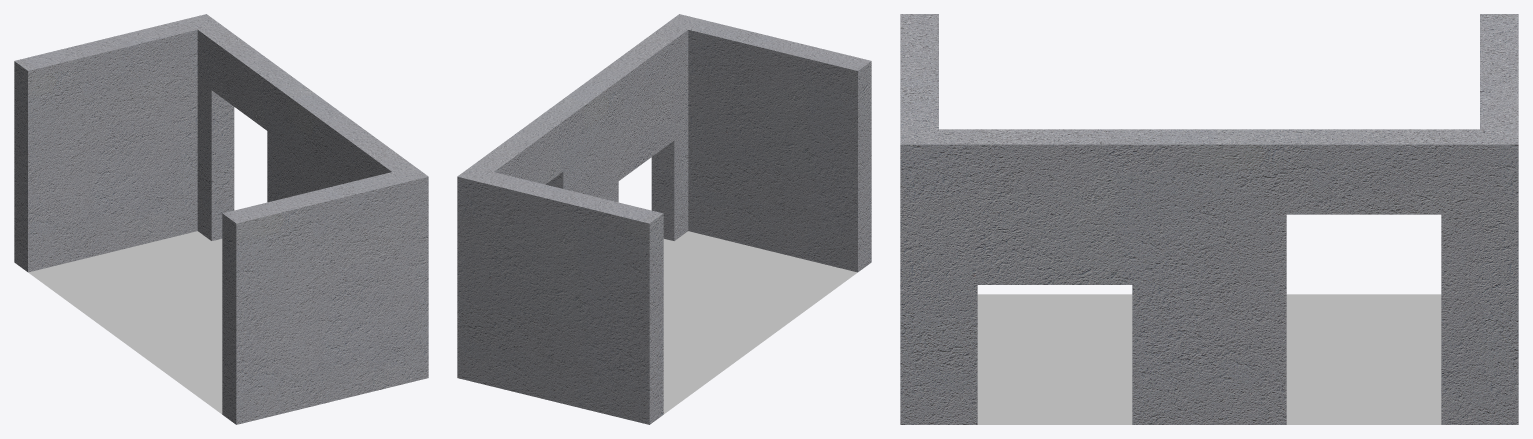
File: spectator (1).fbx
3 renders of one model, left to right at view 1: azimuth 30°, elevation 25°; view 2: azimuth 150°, elevation 25°; view 3: azimuth 270°, elevation 25°, orthographic. The views are drawn at different scales.
Visible parts, largest first — view 1: pCube4, pPlane1; view 2: pCube4, pPlane1; view 3: pCube4, pPlane1.
Part boxes in pixels (x1,y1,x2,y2): pCube4: (14, 14, 428, 424); pPlane1: (28, 231, 222, 414); pCube4: (457, 14, 871, 424); pPlane1: (663, 231, 857, 414); pCube4: (900, 14, 1518, 424); pPlane1: (977, 294, 1441, 424).
Size of the model in its own units: 4 by 4 by 8.
